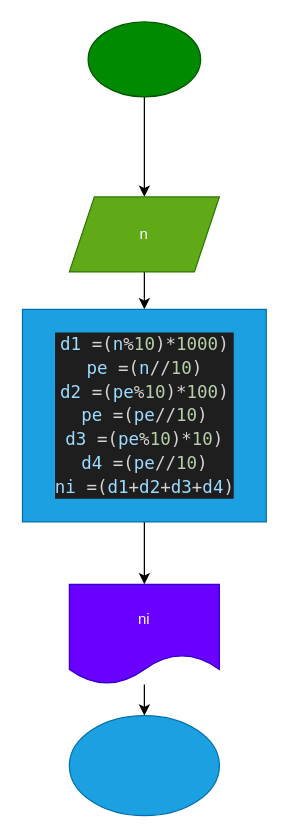
This 288x838 diagram has some shape labels left out. Here are the shapes that lost their labels. From the top down, the box of each, then its label:
(87, 21, 201, 97): inicio
(68, 714, 219, 816): fin
